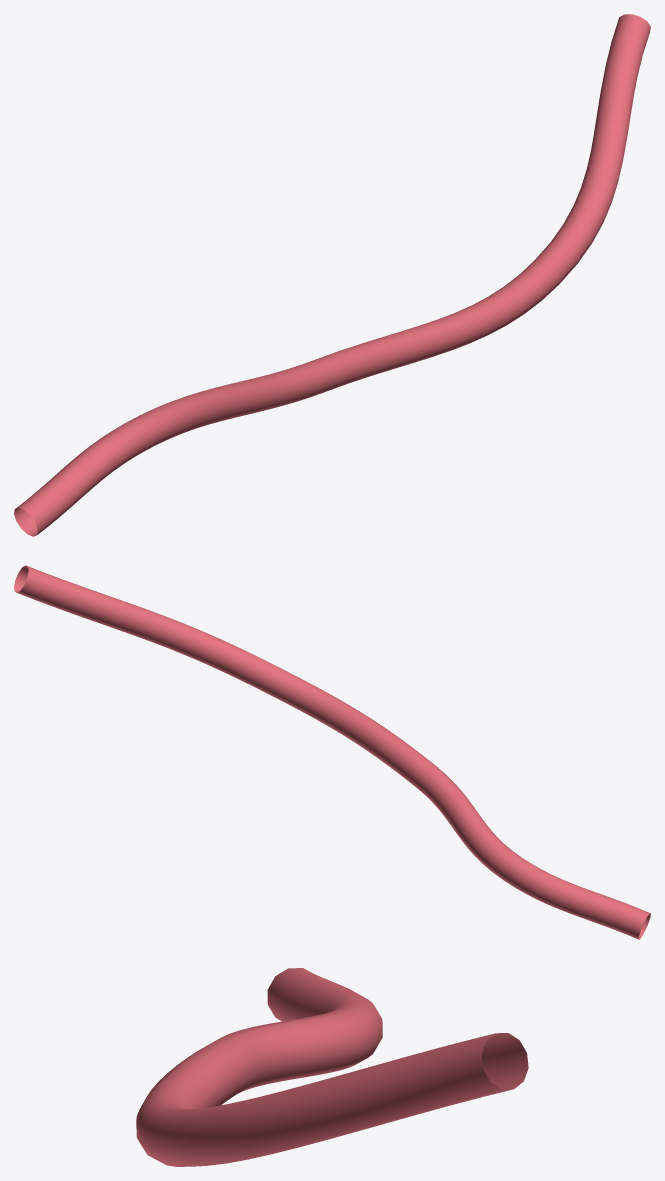
3 renders of one model, top to bottom at view 1: azimuth 30°, elevation 25°; view 2: azimuth 150°, elevation 25°; view 3: azimuth 270°, elevation 25°, orthographic. The views are drawn at different scales.
Visible parts, largest first — view 1: ZA_724cb16ff0d6cee7; view 2: ZA_724cb16ff0d6cee7; view 3: ZA_724cb16ff0d6cee7.
Boxes of the visible parts, x1=… form: ZA_724cb16ff0d6cee7: x1=14, y1=14, x2=650, y2=536; ZA_724cb16ff0d6cee7: x1=14, y1=565, x2=650, y2=939; ZA_724cb16ff0d6cee7: x1=136, y1=968, x2=528, y2=1166.
Bounding box in the file's own units: 0.0321 × 0.0142 × 0.00932.
